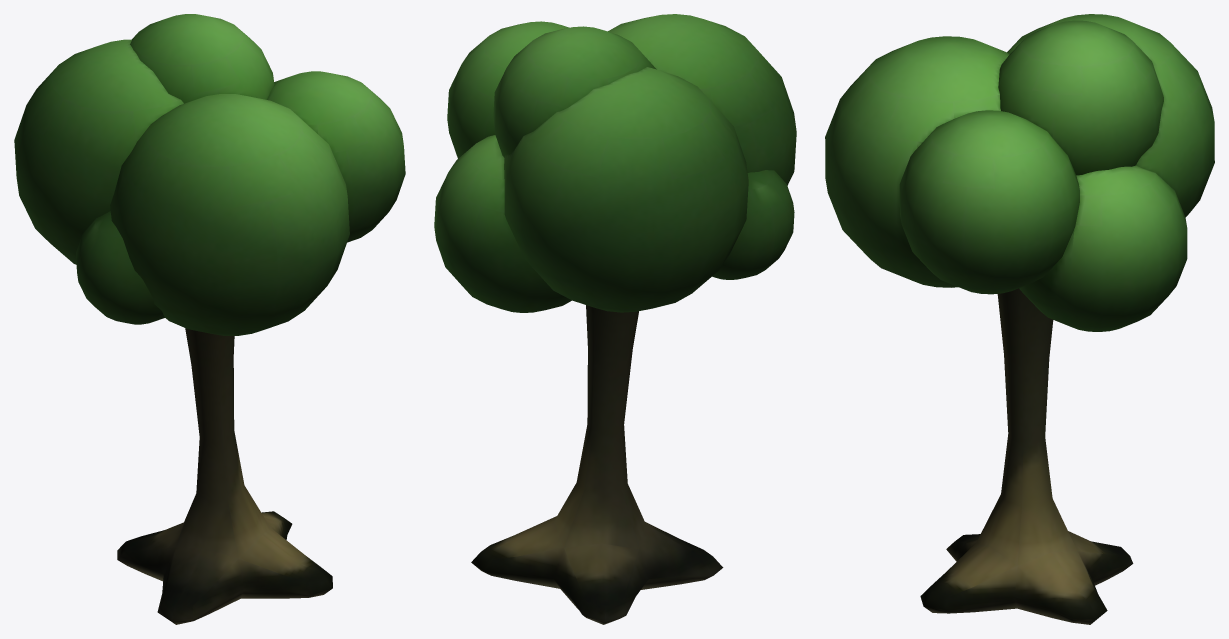
Rendered from tree.FBX.
The picture shows the model from 3 angles, left to right: view 1: azimuth 30°, elevation 25°; view 2: azimuth 150°, elevation 25°; view 3: azimuth 270°, elevation 25°; orthographic projection. The views are drawn at different scales.
Parts seen in each view (by area): view 1: Box260; view 2: Box260; view 3: Box260.
Part boxes in pixels (x1=…): Box260: x1=14, y1=14, x2=405, y2=624; Box260: x1=434, y1=14, x2=796, y2=624; Box260: x1=825, y1=14, x2=1214, y2=624.
Size of the model in its own units: 98.9 by 164 by 103.
1 material, 1 textured.
